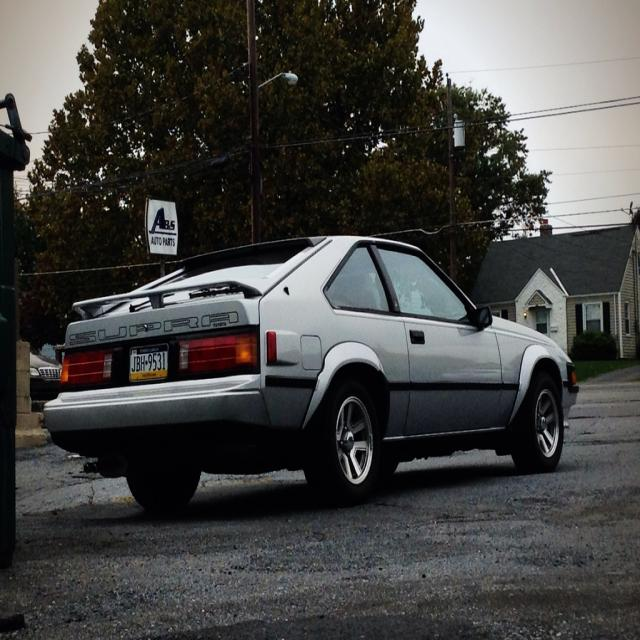car: (45, 234, 580, 508)
